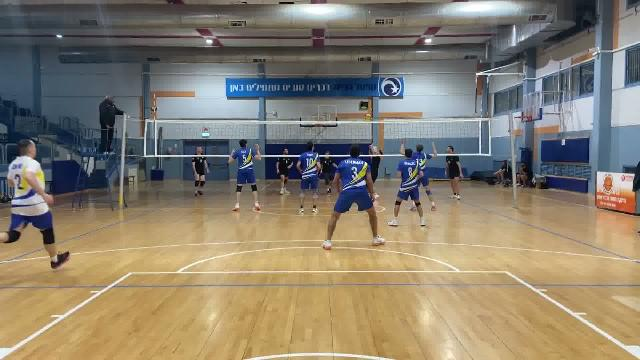ball: (363, 111, 375, 124)
